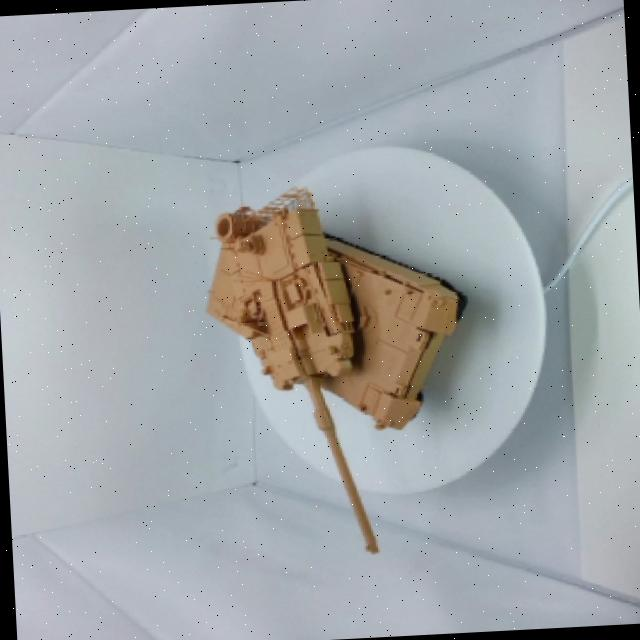korea tank: (171, 165, 503, 573)
